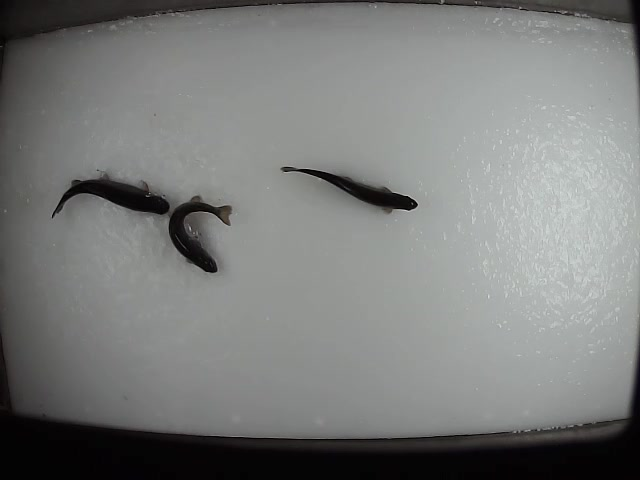Fish: (281, 166, 418, 213), (51, 172, 168, 218), (169, 195, 232, 272)
